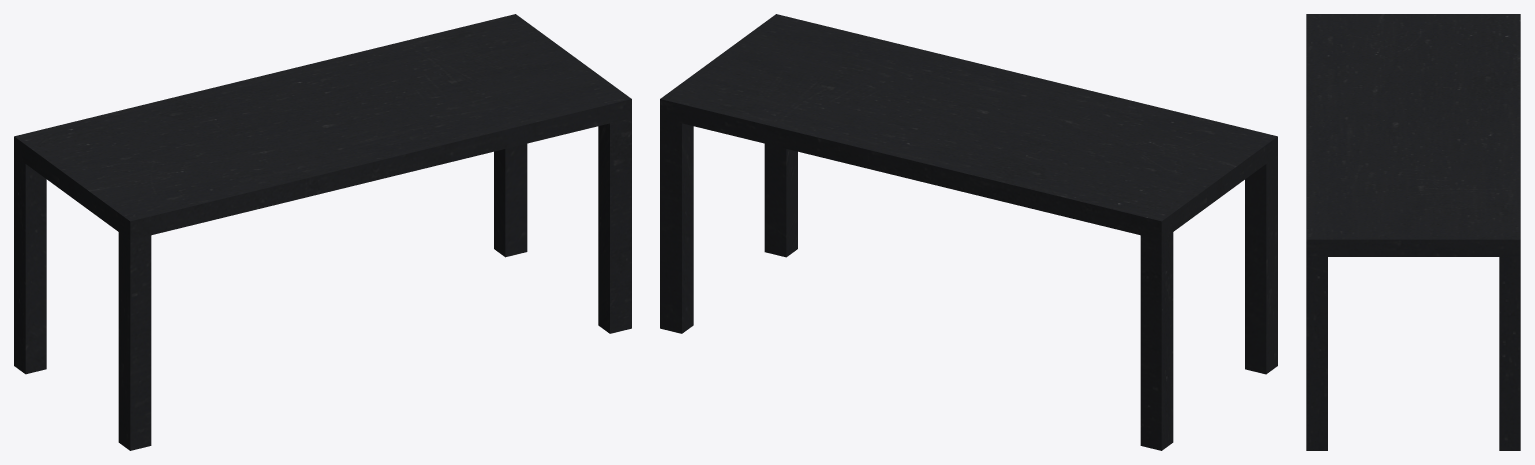
File: table.gltf
3 views of the same model, side by side, from view 1: azimuth 30°, elevation 25°; view 2: azimuth 150°, elevation 25°; view 3: azimuth 270°, elevation 25° (orthographic). The views are drawn at different scales.
Parts seen in each view (by area): view 1: Cube; view 2: Cube; view 3: Cube.
Part boxes in pixels (x1,y1,x2,y2): Cube: [14, 14, 631, 450]; Cube: [660, 14, 1277, 450]; Cube: [1306, 14, 1520, 450].
Size of the model in its own units: 4.99 by 2.18 by 2.
1 material, 1 textured.
